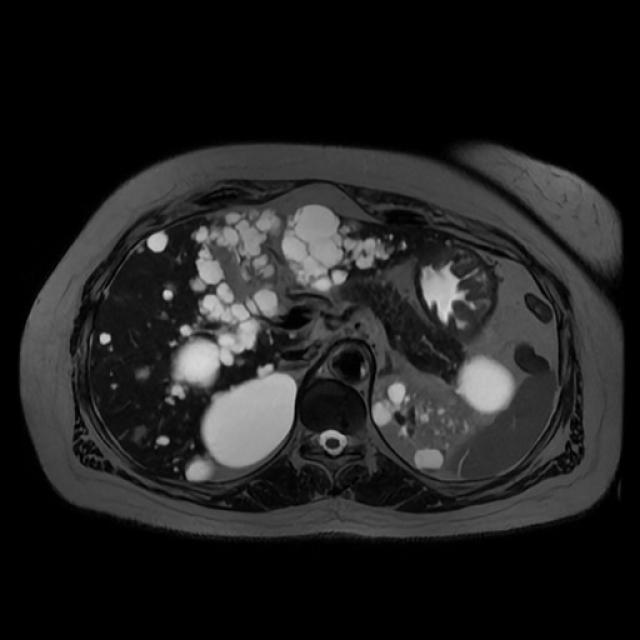sag: (204, 369, 296, 466)
sol: (376, 356, 513, 472)
